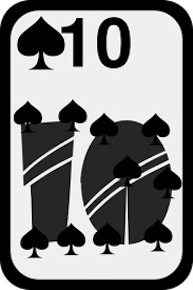TenOfSpades: (1, 1, 191, 290)
